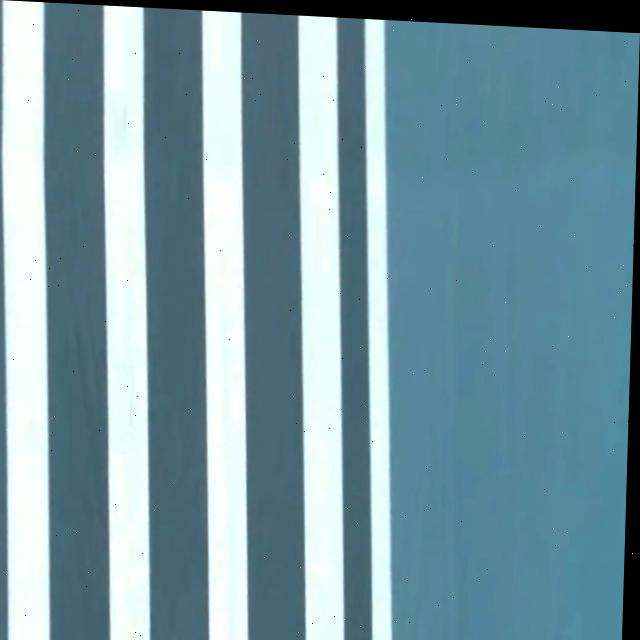left: (366, 19, 392, 640)
